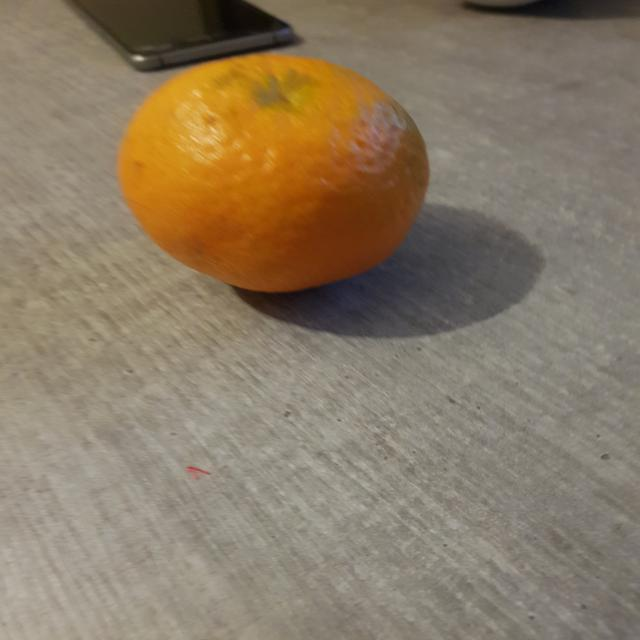Orange: (115, 52, 431, 295)
